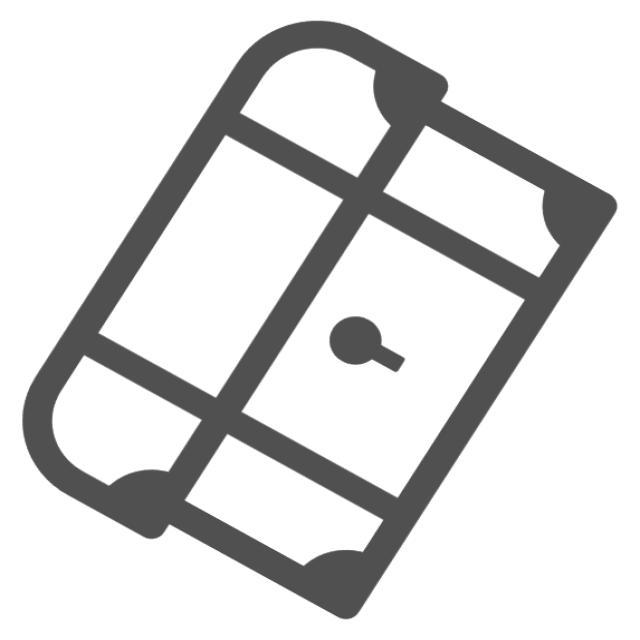treasure_box: (12, 15, 630, 627)
